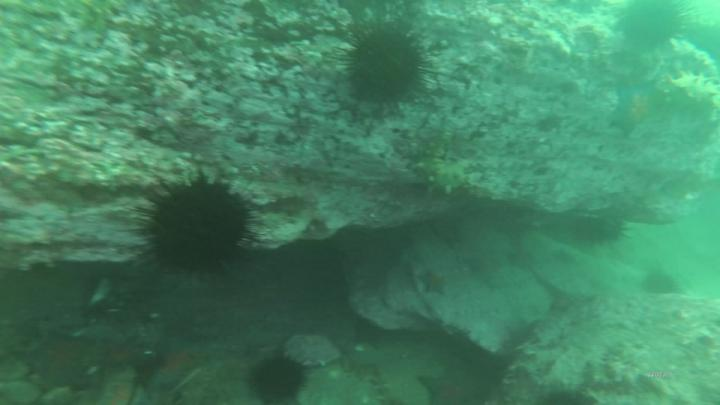echinus: (149, 184, 246, 275), (350, 34, 428, 108), (625, 1, 683, 46), (251, 358, 306, 405), (647, 271, 678, 295), (601, 221, 625, 244)
holothurian: (418, 140, 467, 193), (664, 70, 720, 112), (371, 371, 404, 405)
starfish: (37, 334, 92, 376), (159, 342, 217, 380), (610, 87, 657, 130), (419, 373, 471, 405), (105, 339, 147, 369), (422, 273, 446, 295)
